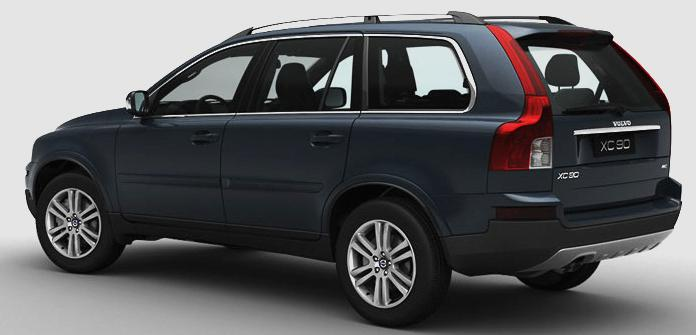volvo: (606, 115, 641, 134)
